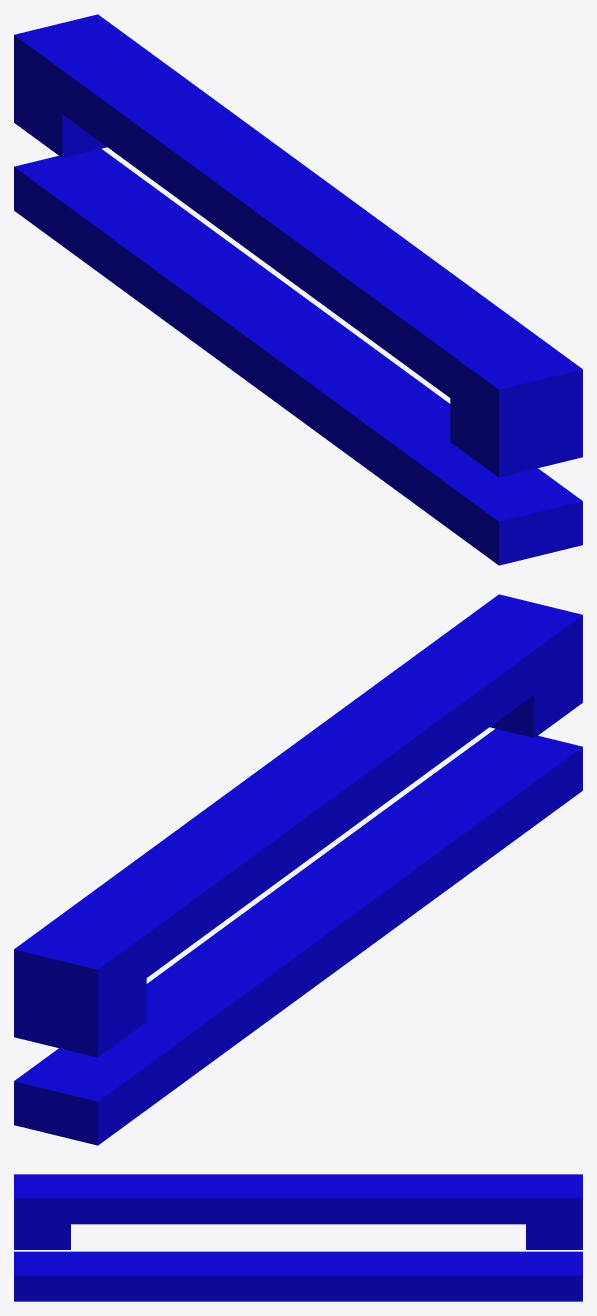
The model's file is Level_3_scene13_colored.fbx.
The picture shows the model from 3 angles, top to bottom: view 1: azimuth 30°, elevation 25°; view 2: azimuth 150°, elevation 25°; view 3: azimuth 270°, elevation 25°; orthographic projection. The views are drawn at different scales.
Visible parts, largest first — view 1: area1.007; view 2: area1.007; view 3: area1.007.
Boxes of the visible parts, left/top/right/bottom form: area1.007: left=14, top=14, right=582, bottom=565; area1.007: left=14, top=594, right=582, bottom=1145; area1.007: left=14, top=1174, right=582, bottom=1301.
Size of the model in its own units: 1000 by 2000 by 10000.
